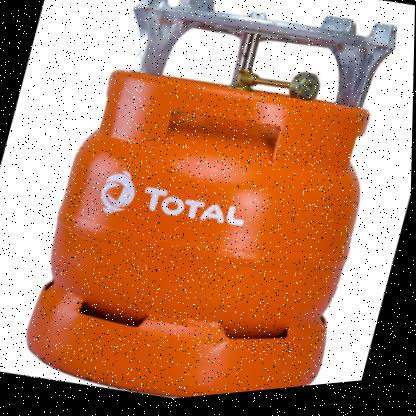gas-tank: (0, 24, 405, 415)
